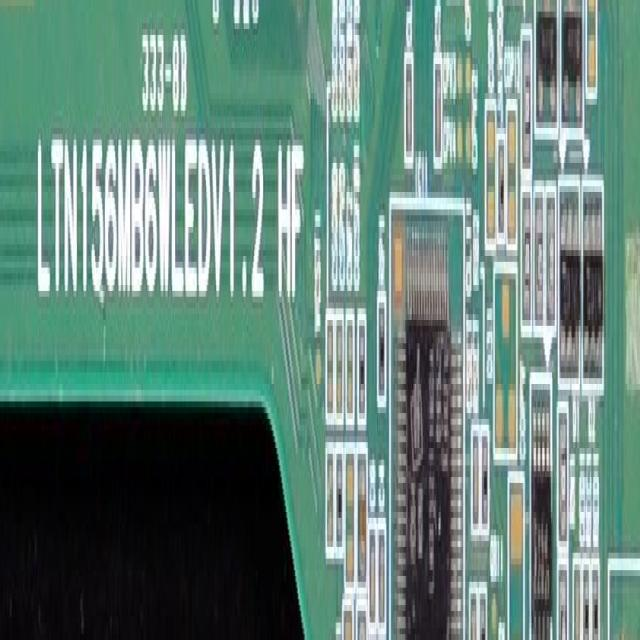IC: (530, 471, 551, 611)
capacitor: (509, 477, 524, 640), (506, 104, 517, 248), (356, 454, 366, 594), (486, 99, 495, 244), (345, 454, 355, 577), (586, 0, 596, 87), (326, 454, 334, 561), (359, 320, 367, 422), (335, 320, 343, 418), (378, 524, 385, 634), (336, 454, 344, 550), (347, 314, 354, 422), (434, 58, 441, 162), (405, 53, 412, 154), (472, 437, 479, 528), (327, 320, 333, 418), (369, 535, 375, 626), (573, 570, 580, 640), (469, 593, 477, 640), (344, 605, 353, 640)
resistor: (520, 192, 532, 330), (546, 192, 556, 325), (522, 35, 531, 173), (534, 198, 543, 324), (560, 413, 568, 545), (559, 570, 567, 640), (592, 564, 598, 640), (583, 564, 589, 640)
transistor: (535, 0, 558, 128), (562, 0, 583, 128)
